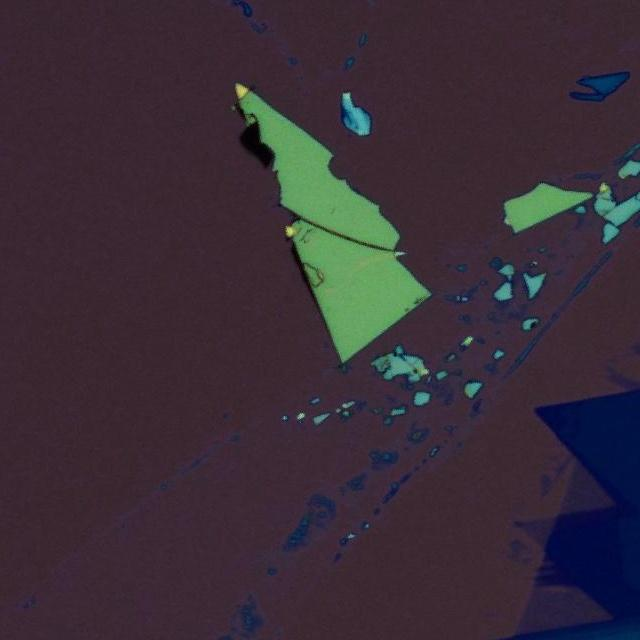monolayer-eWW4: (510, 582, 615, 636), (558, 452, 612, 512), (518, 516, 551, 548)
